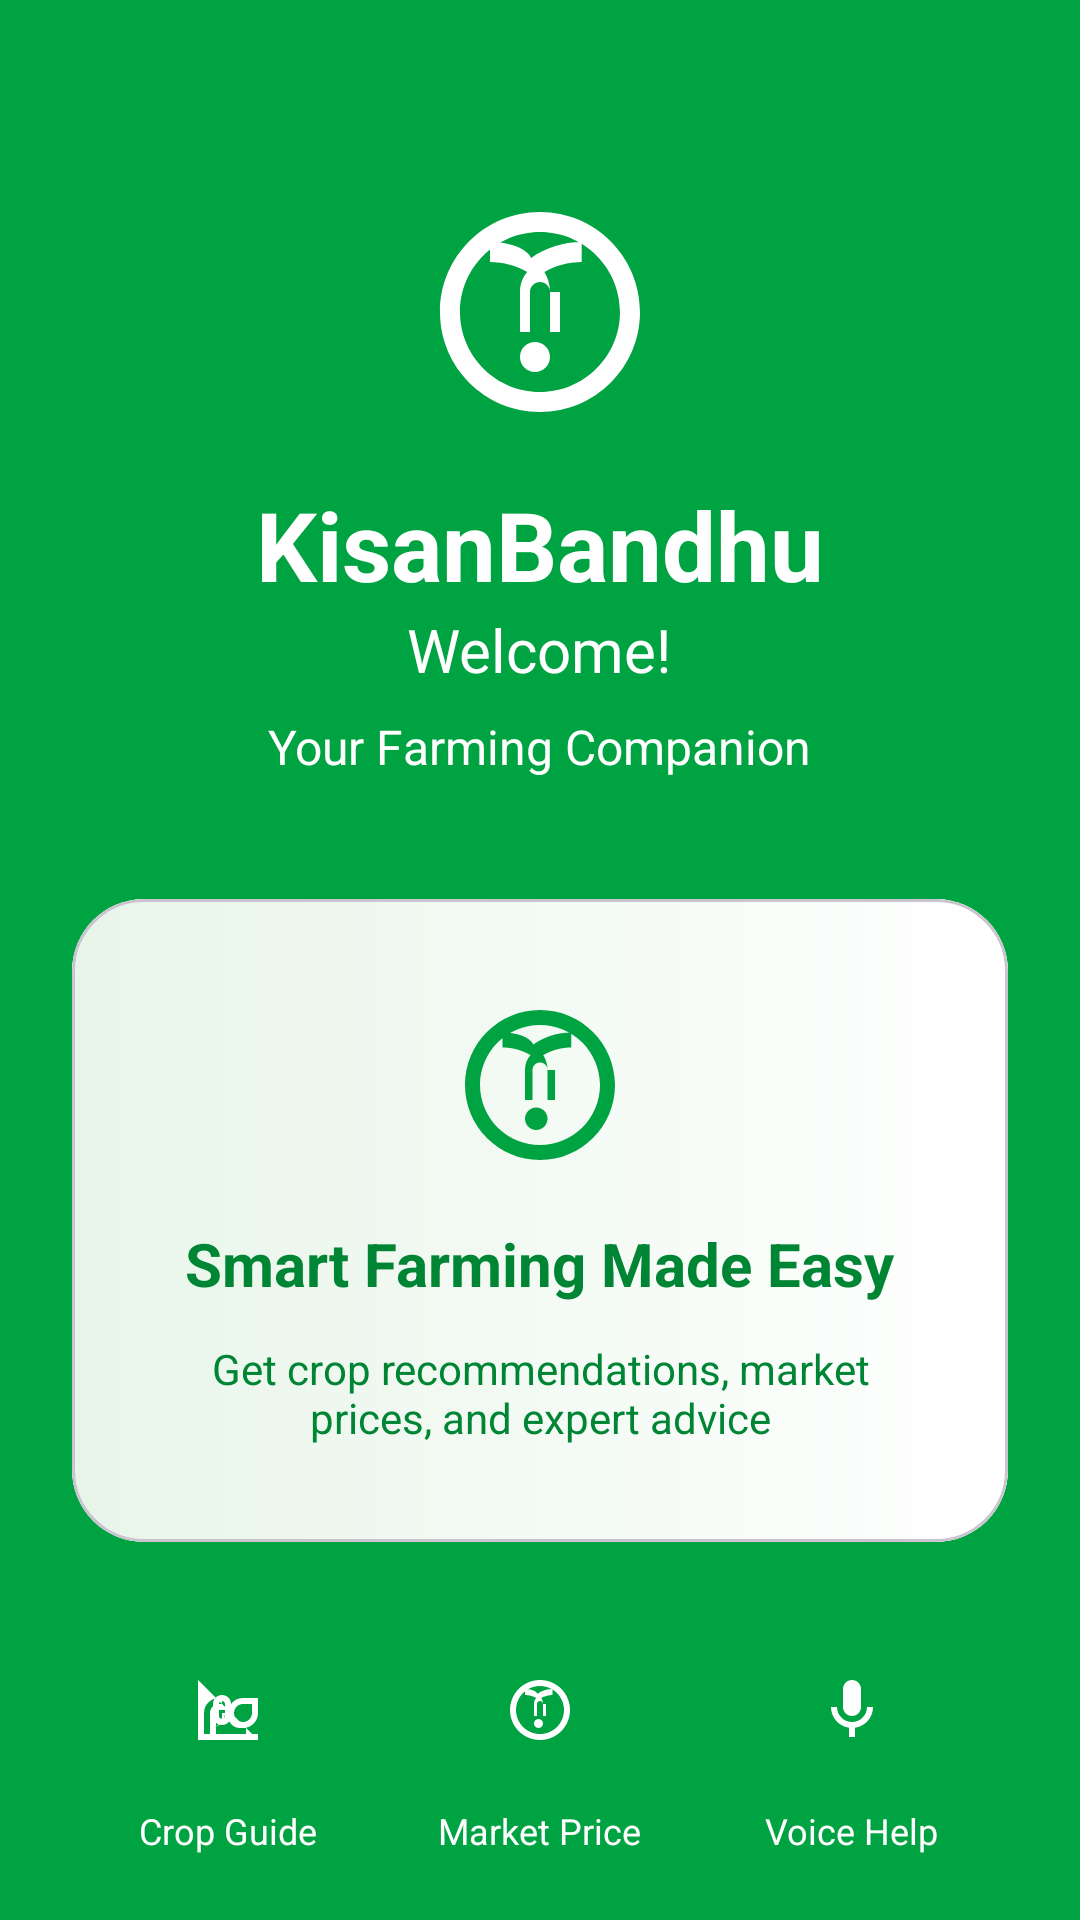

Screen size 1080px x 1920px. Icon name, then its center in pixels as [x,y]:
mic: [852,1708]
